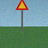sign: (15, 0, 28, 34)
